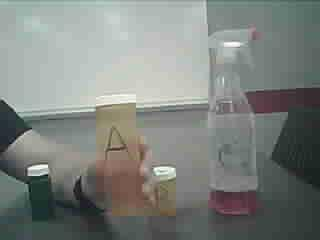Bottle A: (93, 90, 158, 225)
Bottle B: (154, 167, 183, 223)
Bottle C: (26, 158, 69, 229)
hazard: (199, 26, 272, 223)
